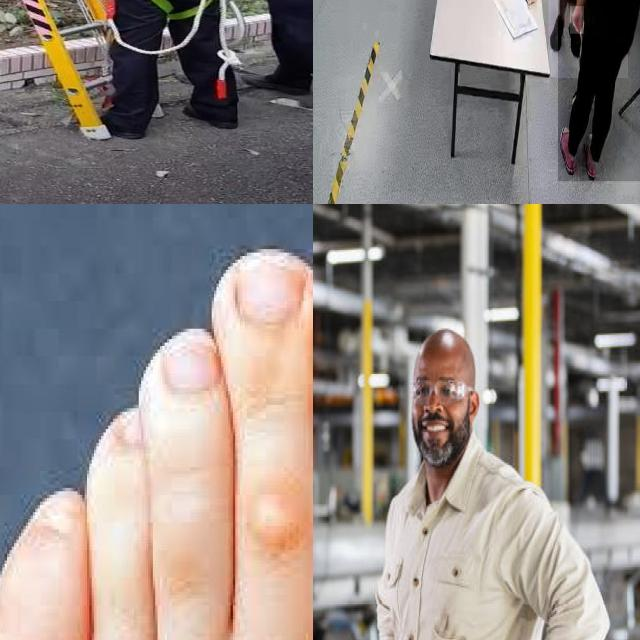Barefoots: (0, 210, 313, 640)
No_Ear-Protection: (468, 390, 481, 426)
face_nomask: (412, 394, 471, 468)
glasses: (412, 379, 474, 406)
hand_noglove: (570, 6, 584, 35)
head_nohelmet: (417, 330, 476, 386)
person: (558, 0, 640, 182), (548, 0, 627, 78)
shoes: (558, 123, 578, 178), (582, 127, 600, 181), (549, 11, 567, 53)
